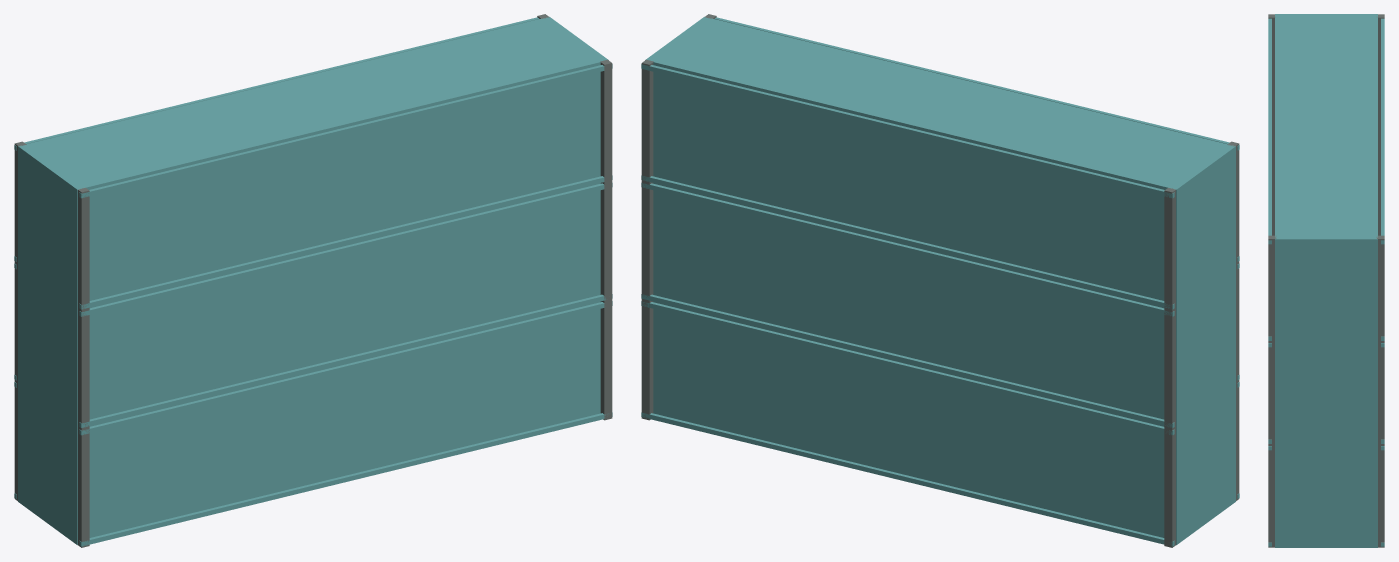
3 renders of one model, left to right at view 1: azimuth 30°, elevation 25°; view 2: azimuth 150°, elevation 25°; view 3: azimuth 270°, elevation 25°, orthographic. The views are drawn at different scales.
Bounding box in the file's own units: 12.2 × 7.8 × 2.66.
